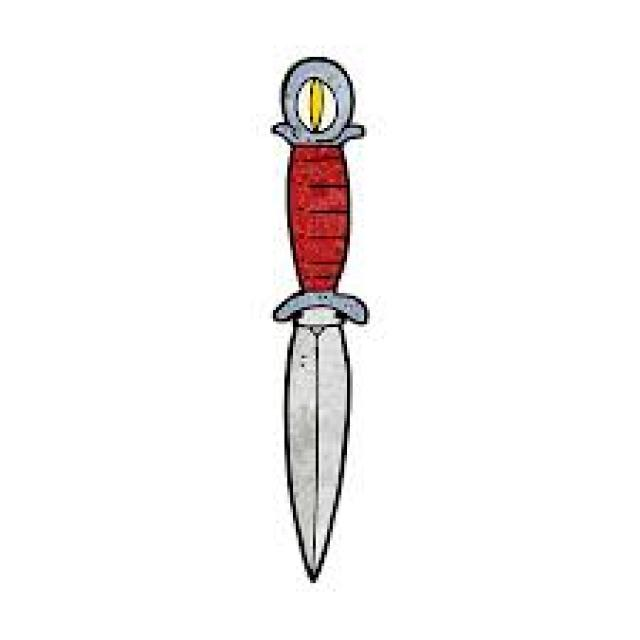Gun: (204, 81, 421, 594)
